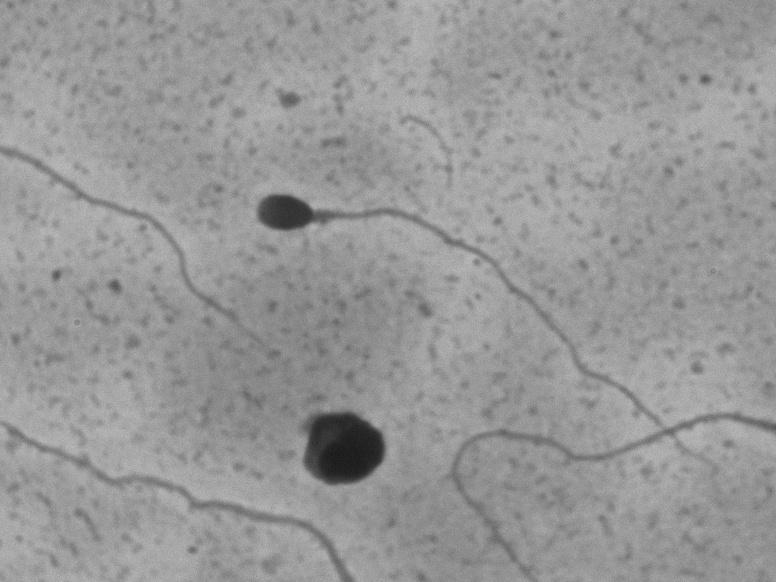Normal: (239, 178, 757, 504)
